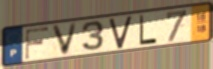3: (80, 20, 106, 52)
7: (165, 9, 189, 44)
F: (23, 26, 50, 61)
L: (139, 14, 159, 47)
V: (50, 21, 79, 57), (108, 15, 134, 51)
